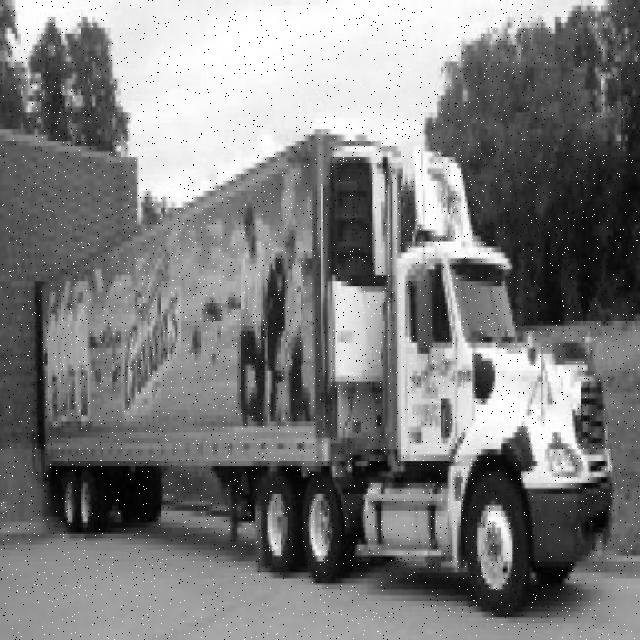Tractor Trailer: (34, 132, 615, 619)
